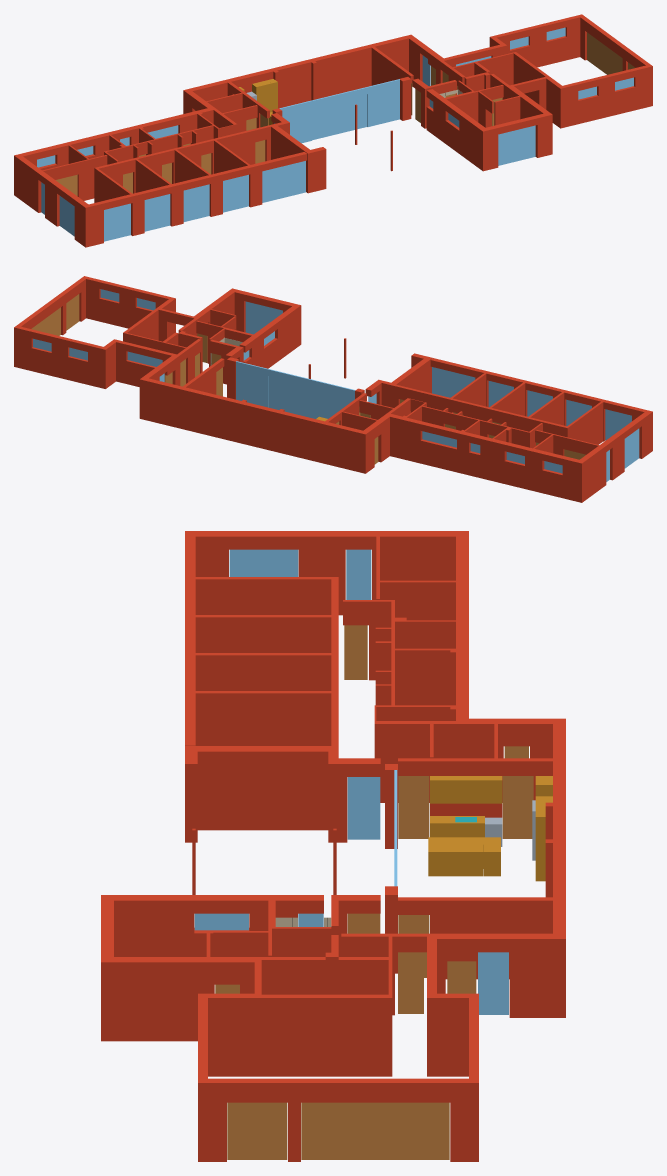
The model's file is ground_floor.glb.
3 renders of one model, top to bottom at view 1: azimuth 30°, elevation 25°; view 2: azimuth 150°, elevation 25°; view 3: azimuth 270°, elevation 25°, orthographic. The views are drawn at different scales.
Visible parts, largest first — view 1: masonry (×36), glazing (×9), door; view 2: masonry (×33), glazing (×9), door (×2); view 3: masonry (×37), door (×7), glazing (×5).
Boxes of the visible parts, <box> form: masonry (×36): <box>14,14,652,247</box>; glazing (×9): <box>59,79,535,241</box>; door: <box>587,32,622,74</box>; masonry (×33): <box>14,276,652,502</box>; glazing (×9): <box>236,301,639,468</box>; door (×2): <box>31,294,79,335</box>; masonry (×37): <box>101,531,565,1161</box>; door (×7): <box>227,625,533,1159</box>; glazing (×5): <box>194,549,508,1014</box>.
Size of the model in its own units: 45.05 by 3.05 by 16.05.
